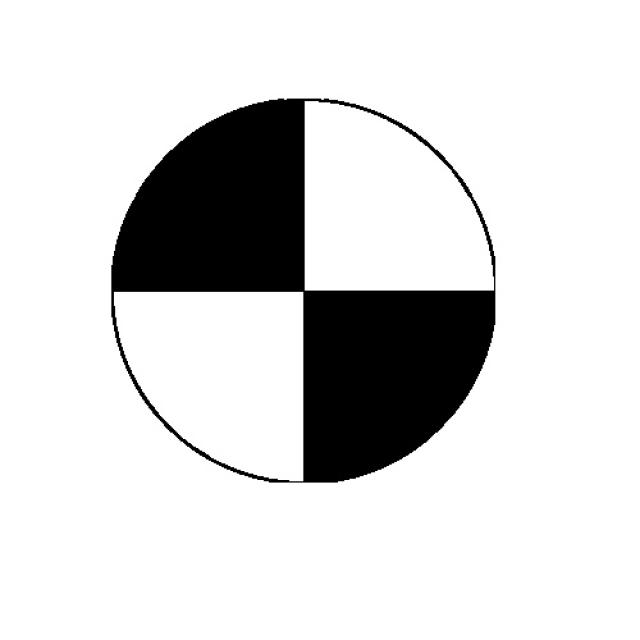Marcadores: (111, 98, 496, 485)
